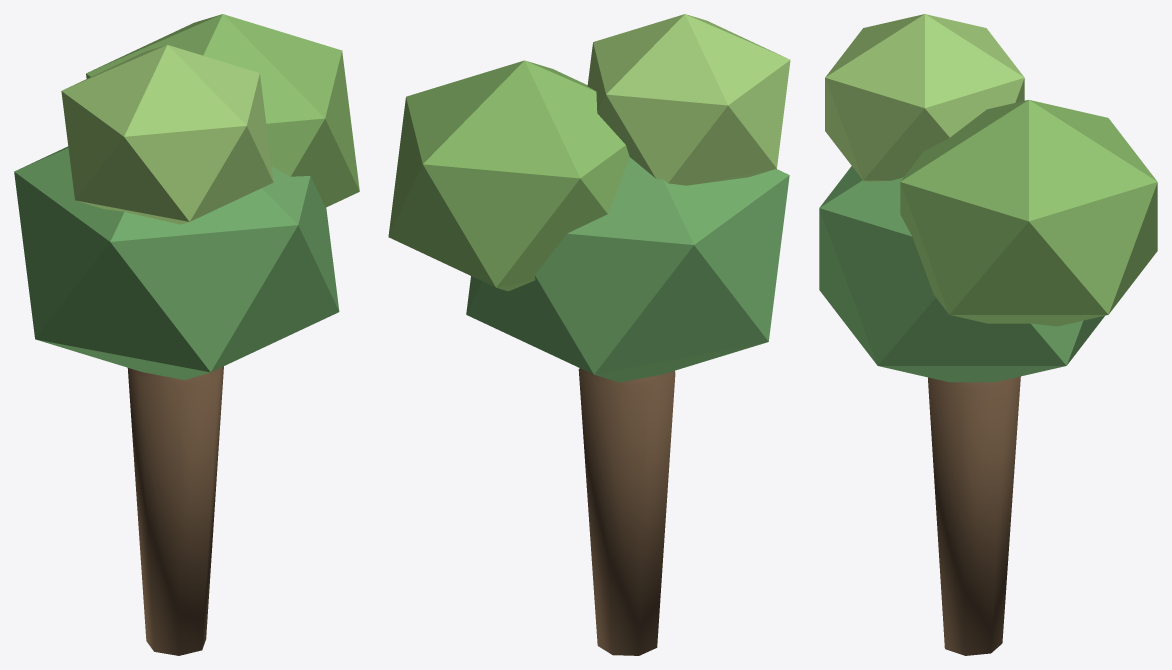
Rendered from xy_nat_tree_broadleaf.glb.
3 renders of one model, left to right at view 1: azimuth 30°, elevation 25°; view 2: azimuth 150°, elevation 25°; view 3: azimuth 270°, elevation 25°, orthographic.
Parts seen in each view (by area): view 1: xy_nat_tree_broadleaf; view 2: xy_nat_tree_broadleaf; view 3: xy_nat_tree_broadleaf.
Boxes of the visible parts, x1,y1,x2,y2 form: xy_nat_tree_broadleaf: (14, 14, 359, 655); xy_nat_tree_broadleaf: (388, 14, 790, 655); xy_nat_tree_broadleaf: (819, 14, 1157, 655).
Size of the model in its own units: 2.02 by 3.58 by 1.79.
